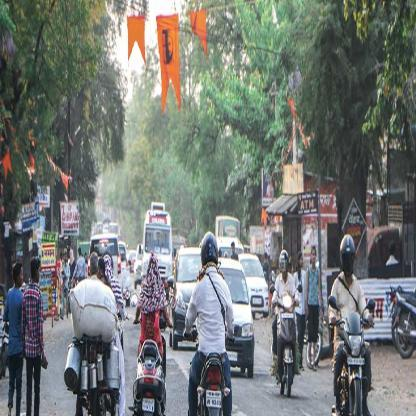helmet: (199, 231, 219, 269), (339, 234, 356, 274), (278, 249, 290, 275)
nohelmet: (10, 261, 26, 290), (28, 256, 43, 285), (87, 251, 100, 281)
